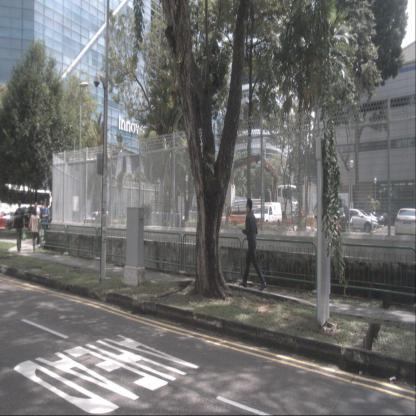barrier: (0, 217, 6, 230)
